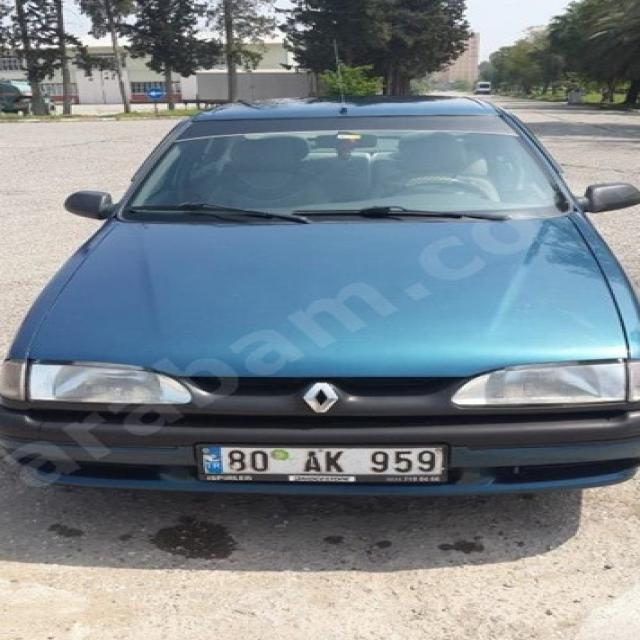license_plate: (198, 444, 446, 476)
